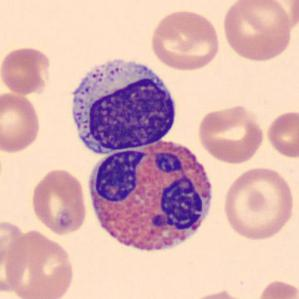Eosinophil: (84, 134, 220, 263)
Monocyte: (64, 50, 180, 161)
RBC: (220, 165, 297, 242), (3, 227, 76, 299), (148, 6, 222, 72), (220, 0, 294, 64), (196, 103, 267, 165), (29, 166, 89, 238), (0, 90, 43, 155), (0, 44, 53, 96), (0, 220, 30, 296), (264, 109, 298, 160), (247, 0, 299, 33), (253, 277, 299, 299), (185, 287, 252, 299)
